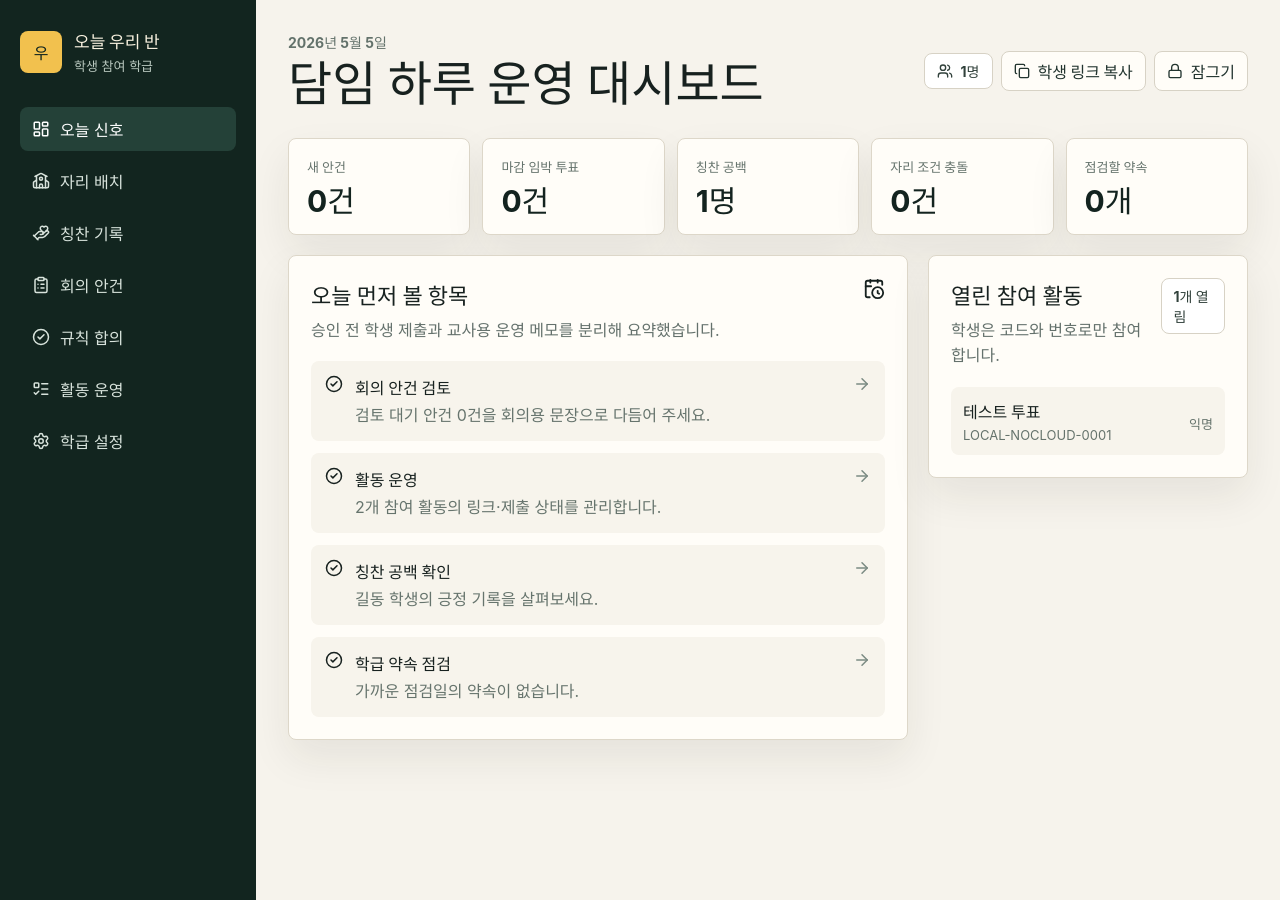
homeroom app workflows › does not show teacher login UI when Firebase auth config is unavailable
The width and height of the screenshot is (1280, 900).
Click the button "활동 운영": click(128, 389) [20, 367, 236, 411]
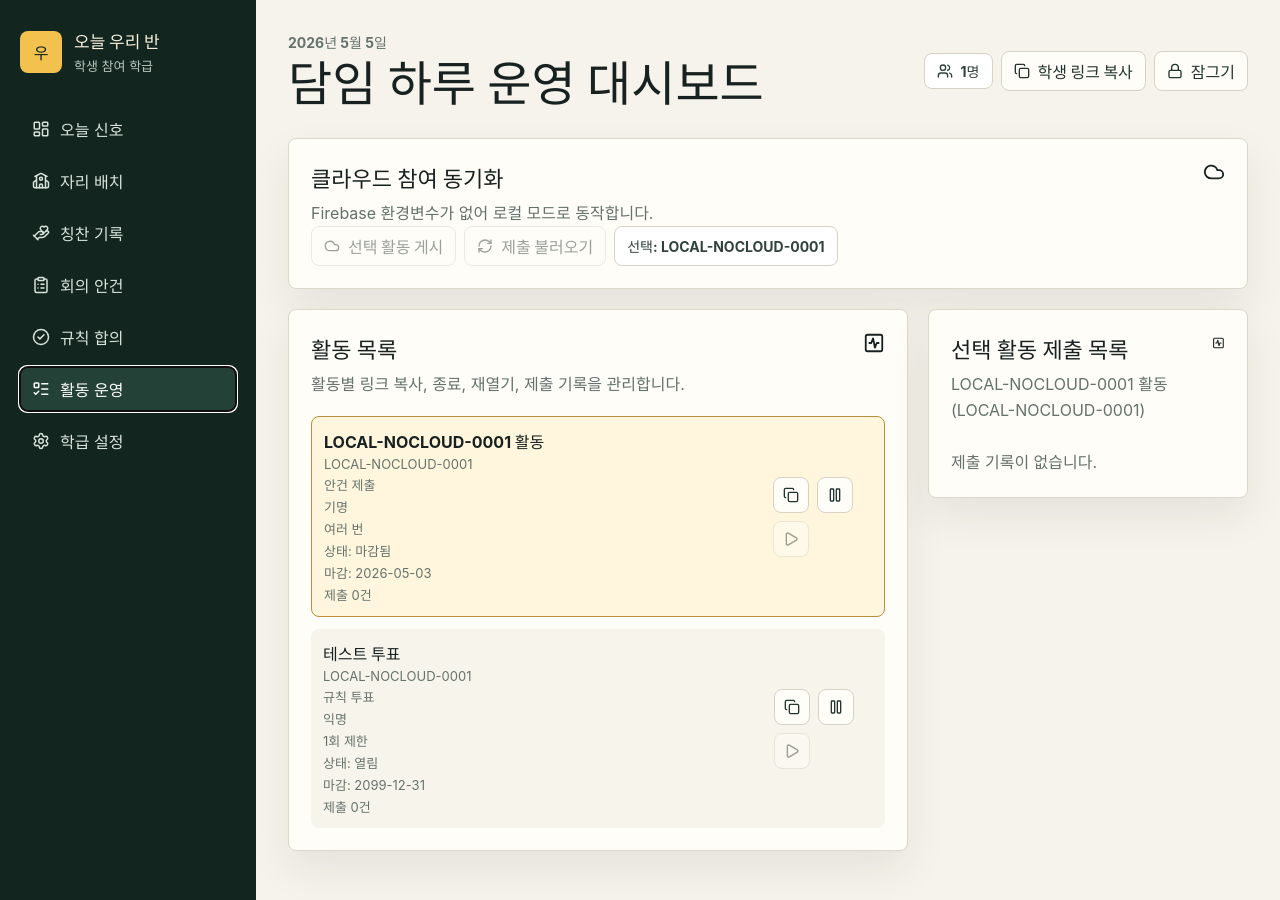
Expected: the text "Firebase 환경변수가 없어 로컬 모드로 동작합니다." is shown, [311, 201, 654, 226]
Expected: the button "선택 활동 게시" is disabled, [311, 226, 456, 266]
